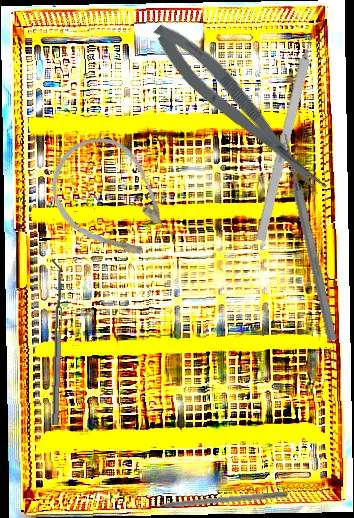Cannula: (31, 119, 194, 284)
Hook Surgical: (255, 17, 321, 242)
Micro Scissor: (143, 13, 334, 207)
Pusher: (278, 132, 340, 342), (135, 489, 289, 511)
Spatula Surgical: (45, 259, 64, 426)
